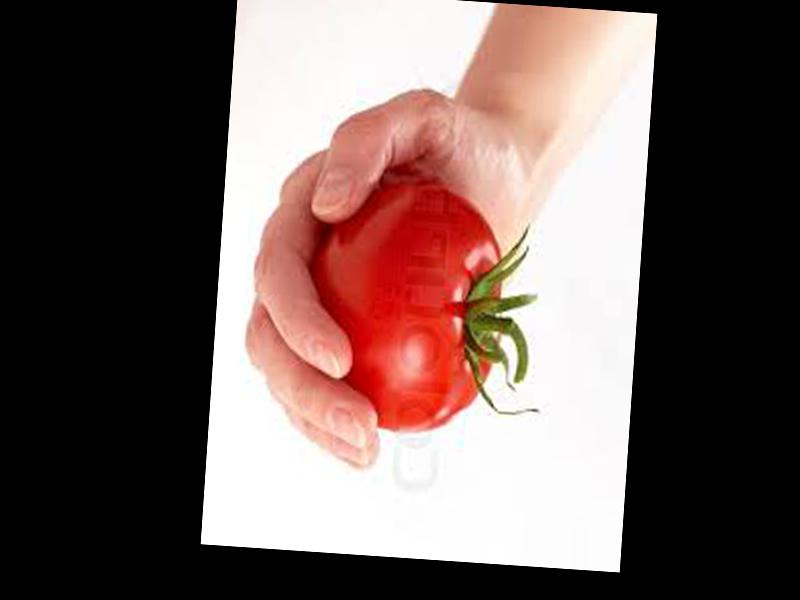Tomato: (302, 179, 511, 438)
